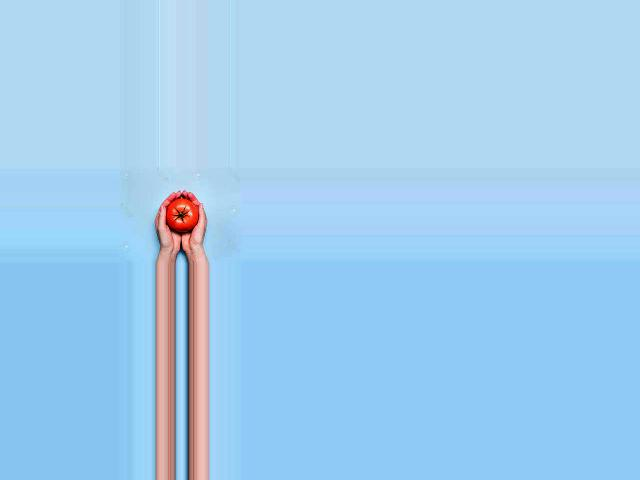tomato: (165, 198, 198, 232)
